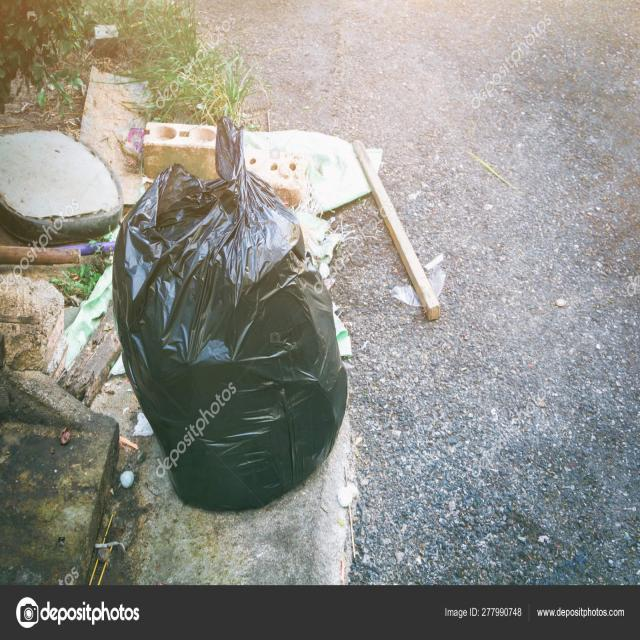plastic_bag: (112, 112, 356, 506)
